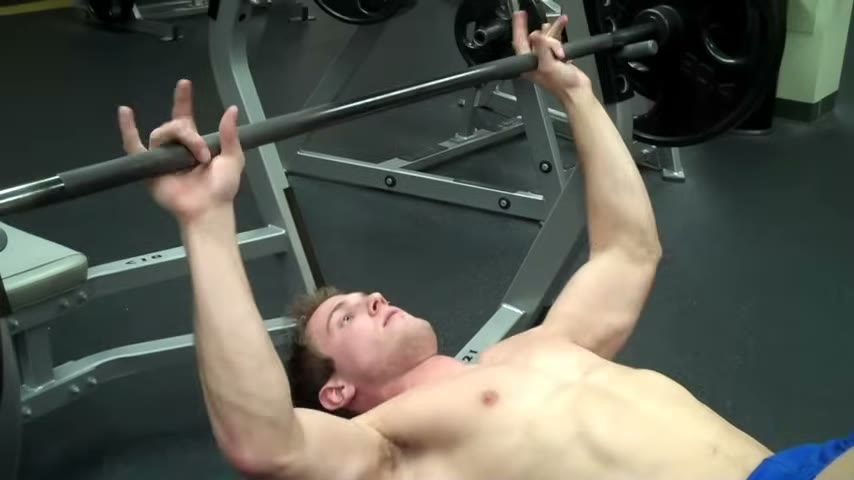barbell_plate_side: (1, 6, 215, 479)
